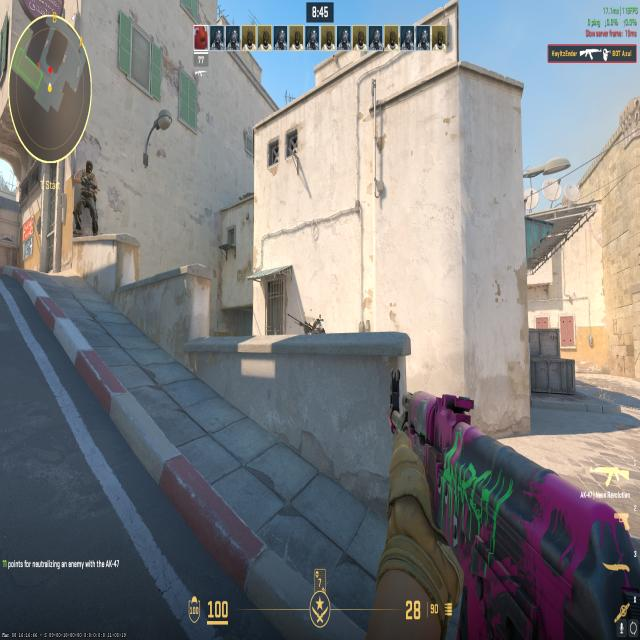ct: (292, 305, 329, 339)
t: (70, 154, 102, 238)
